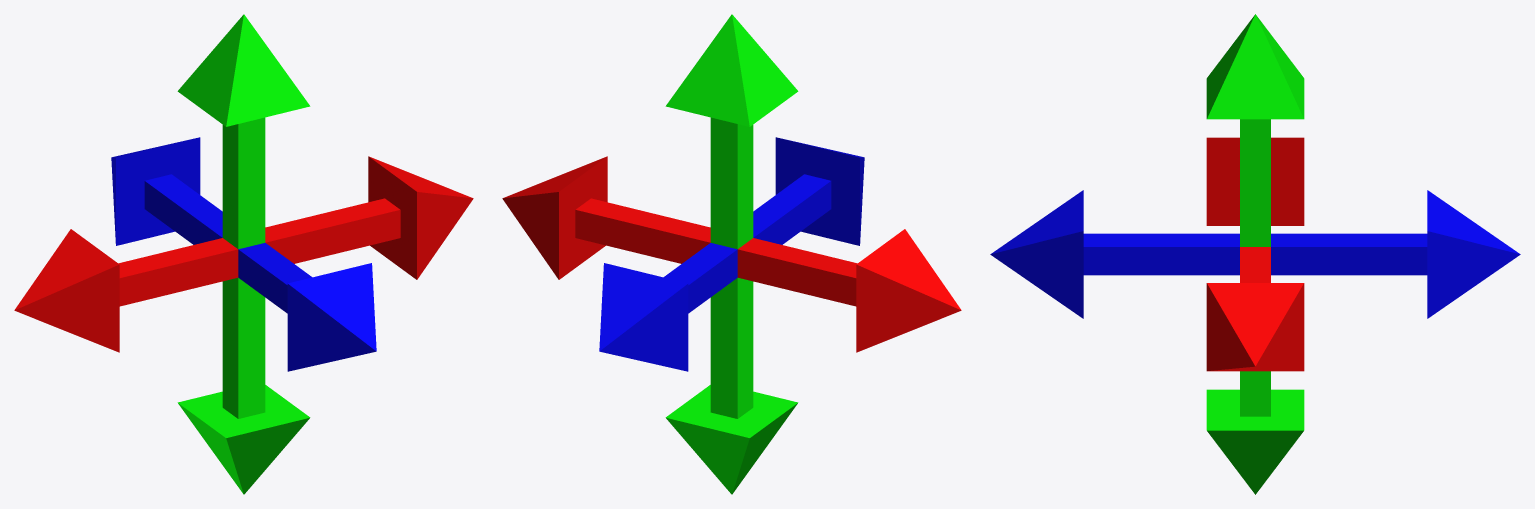
File: XYZ.fbx
3 views of the same model, side by side, from view 1: azimuth 30°, elevation 25°; view 2: azimuth 150°, elevation 25°; view 3: azimuth 270°, elevation 25° (orthographic).
Parts seen in each view (by area): view 1: Y, X, Z; view 2: Y, X, Z; view 3: Z, Y, X.
Boxes of the visible parts, <box> form: Y: <box>177,14,310,494</box>; X: <box>14,156,473,352</box>; Z: <box>111,137,376,371</box>; Y: <box>665,14,798,494</box>; X: <box>502,156,961,352</box>; Z: <box>599,137,864,371</box>; Z: <box>990,190,1520,318</box>; Y: <box>1206,14,1304,494</box>; X: <box>1206,137,1304,371</box>.
Bounding box in the file's own units: 0.17 × 0.17 × 0.17.
